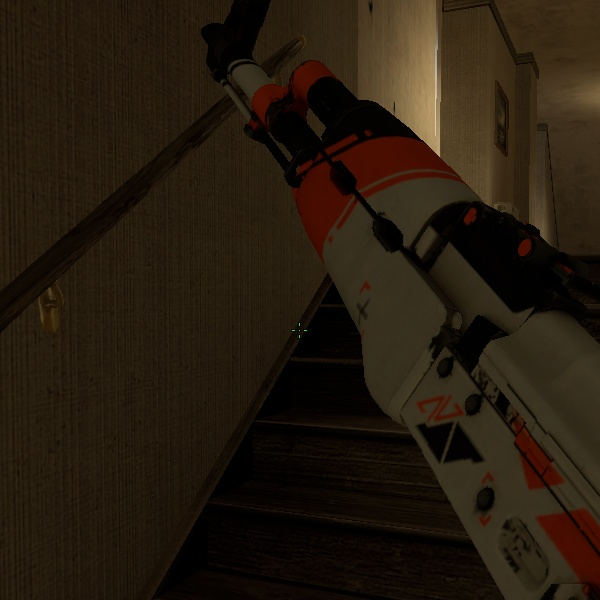t_body: (141, 0, 563, 600)
